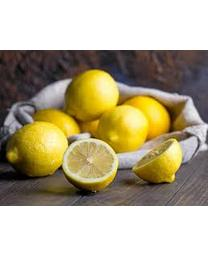lemon: (7, 122, 67, 177), (62, 138, 118, 194), (64, 71, 119, 121), (98, 105, 149, 155), (133, 136, 183, 183)
